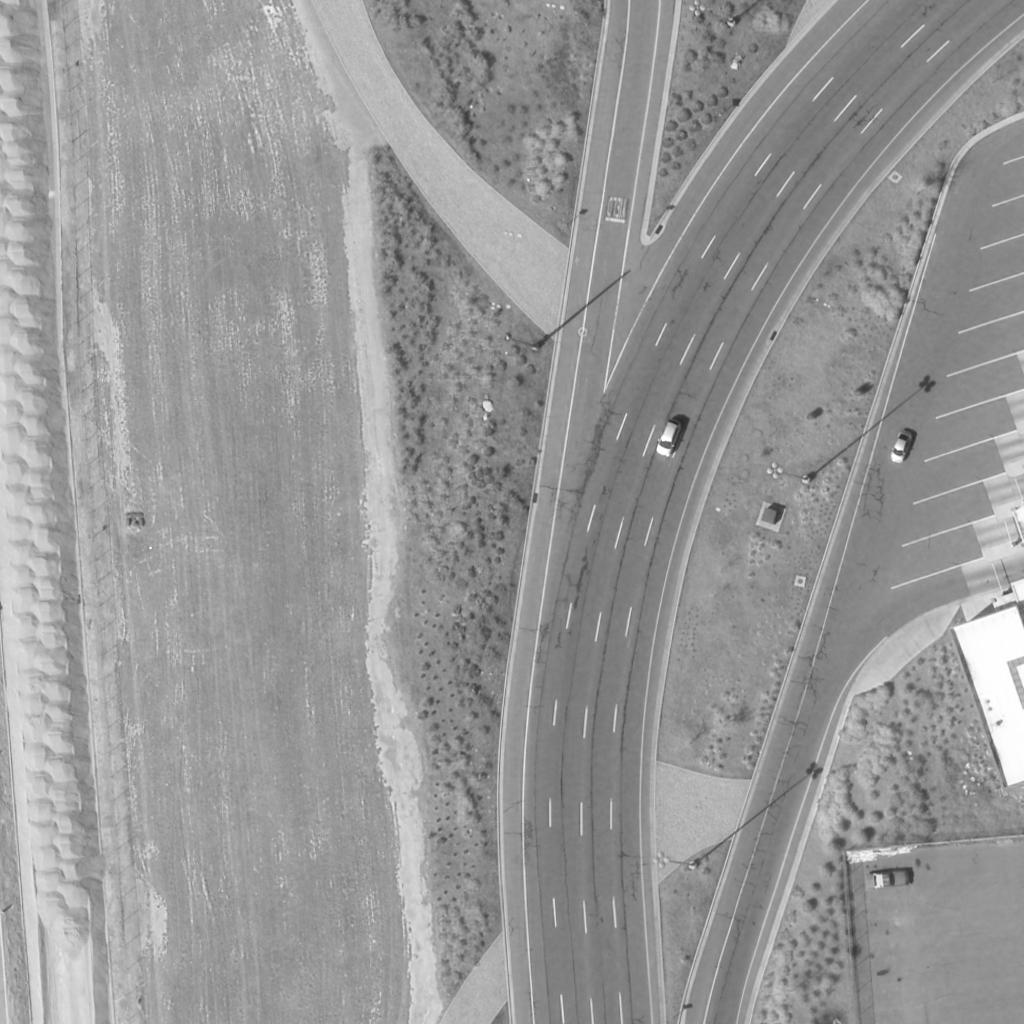vehicle: (652, 420, 684, 460), (887, 431, 917, 469), (867, 870, 913, 892)
